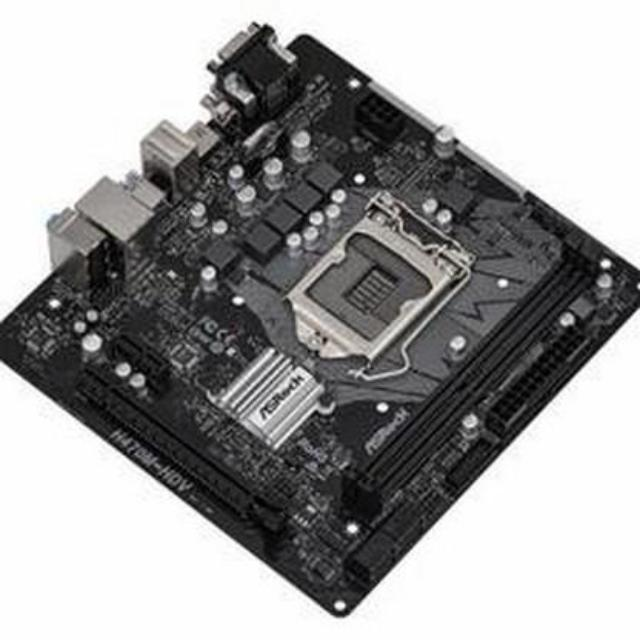Mainboard: (0, 28, 640, 622)
